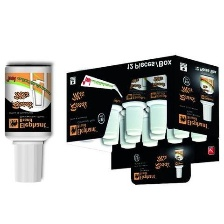book: (63, 53, 220, 186)
correction_fluid: (3, 60, 53, 184), (143, 62, 178, 135), (118, 65, 151, 139), (91, 70, 123, 140)
